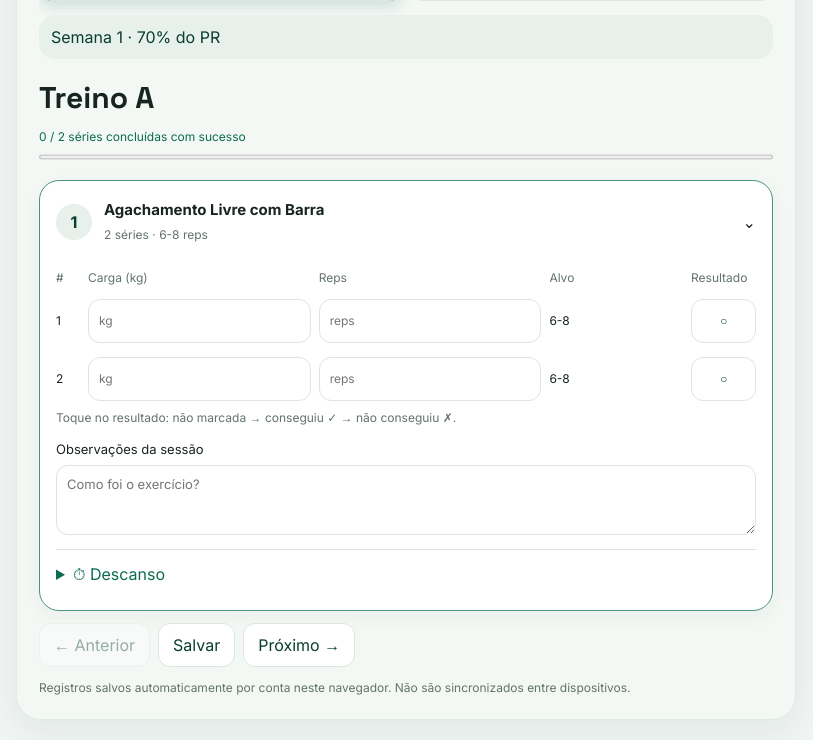
Workout execution › counts real elapsed time, pauses, resets presets and stops at the target
The image size is (813, 740).
(page scrolled)
Click the heading "⏱ Descanso".
click(119, 574)  # box [73,564,165,584]
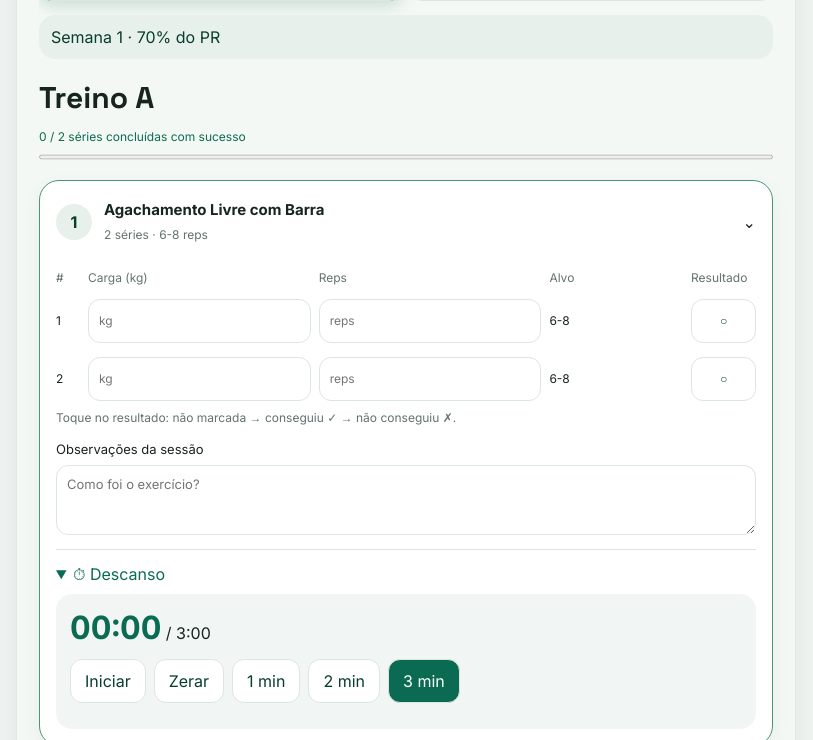
Click the button "1 min".
click(266, 681)  # box [232,659,300,703]
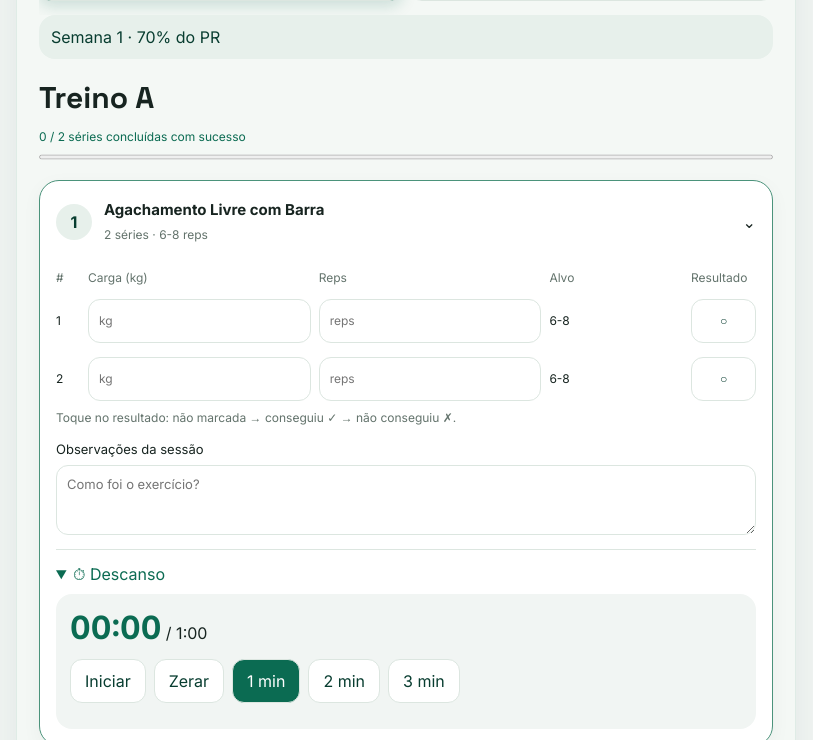
Click the button "Iniciar".
click(108, 681)  # box [70,659,146,703]
Wait 10000 ms
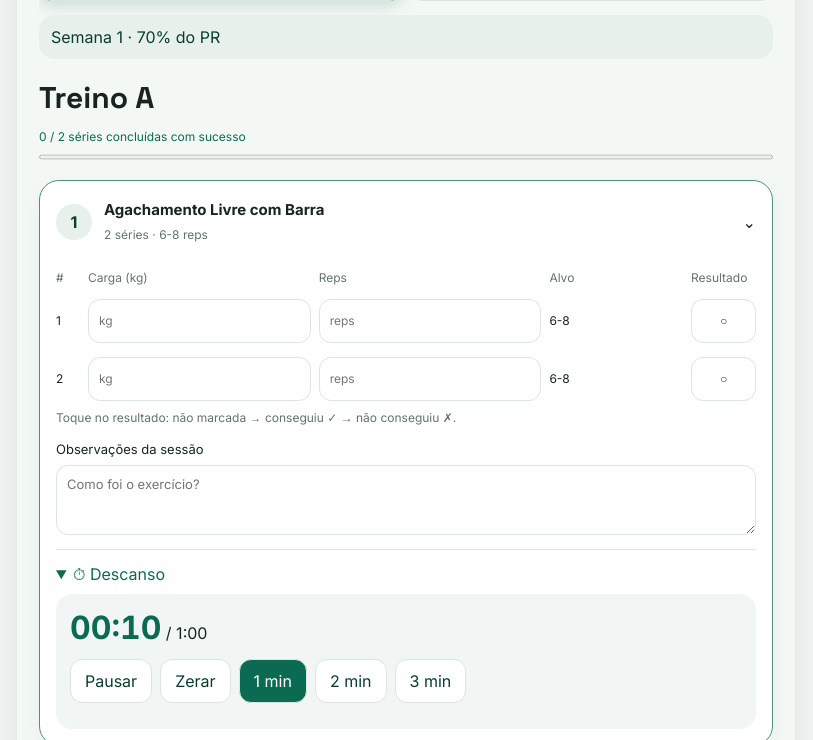
Result: the text "00:10" is shown at [70,608,161,647]
Click the button "Pausar".
click(111, 681)  # box [70,659,152,703]
Wait 5000 ms
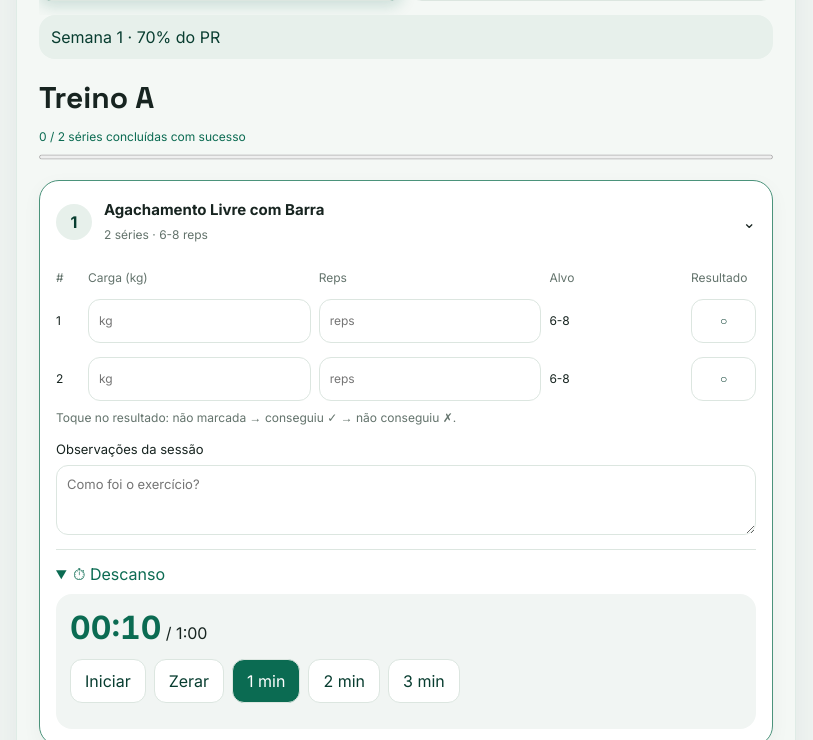
Result: the text "00:10" is shown at [70,608,161,647]
Click the button "Iniciar".
click(108, 681)  # box [70,659,146,703]
Wait 55000 ms
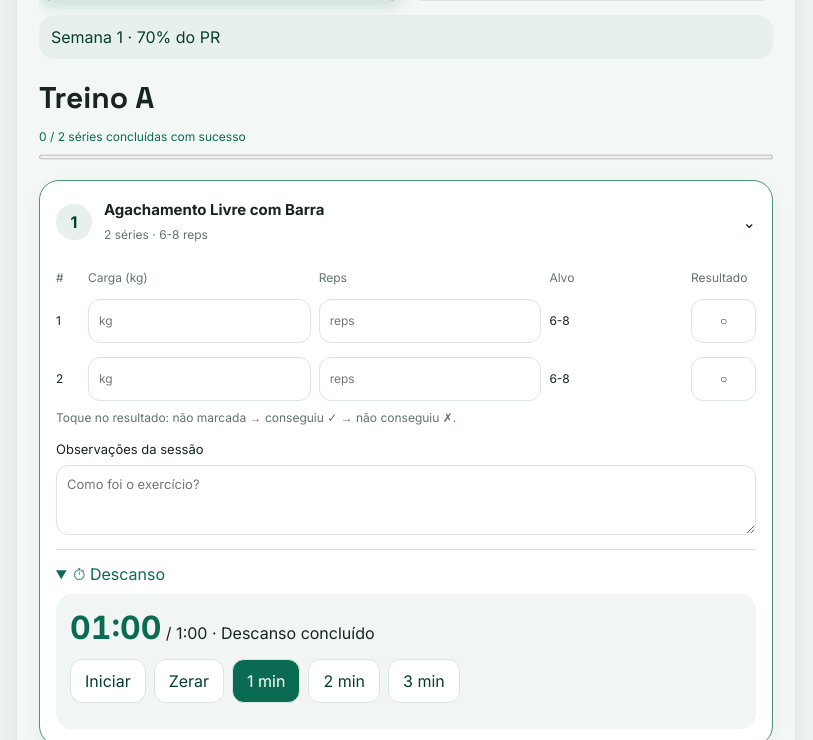
Result: the text "01:00" is shown at [70,608,161,647]
Result: the text "/ 1:00 · Descanso concluído" is shown at [161,623,374,643]
Click the button "2 min".
click(344, 681)  # box [308,659,380,703]
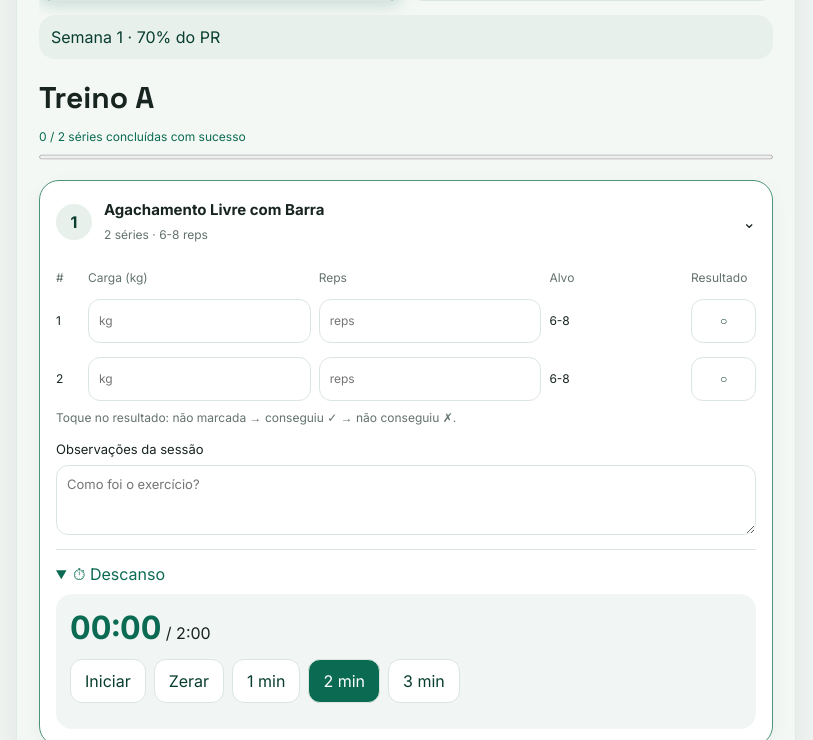
Result: the text "00:00" is shown at [70,608,161,647]
